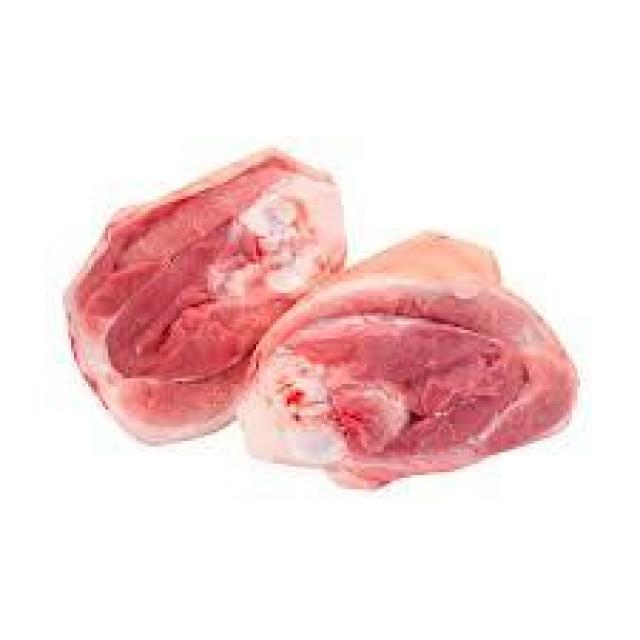beef: (49, 114, 288, 455)
